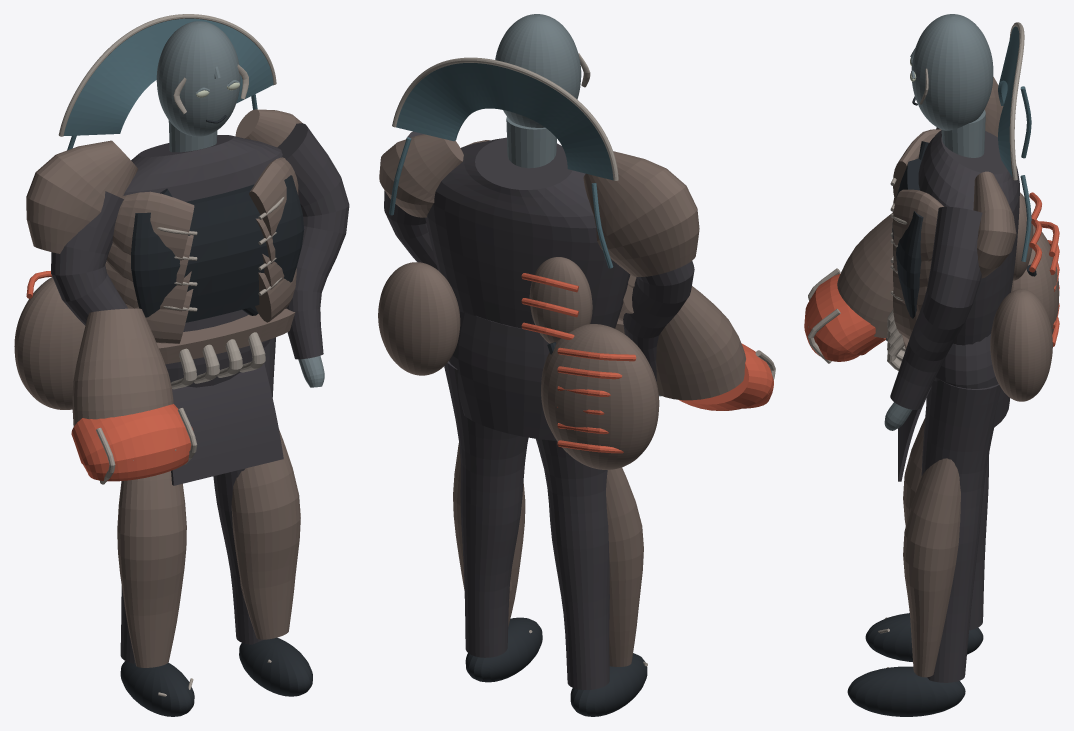
The model's file is AnchorWrecker.obj.
3 renders of one model, left to right at view 1: azimuth 30°, elevation 25°; view 2: azimuth 150°, elevation 25°; view 3: azimuth 270°, elevation 25°, orthographic. The views are drawn at different scales.
Visible parts, largest first — view 1: Wrecker_BroadTorsoHarness, Wrecker_LegBrace_L, Wrecker_LegBrace_R, Wrecker_LeftContactBrace, Avarin_Arm_R, Salvage_SplitFieldApron, Avarin_LivingCrescentMantle, Wrecker_LeftLoadShoulder, Avarin_TempleFace, Wrecker_BluntAnchorPad, Avarin_Torso, Wrecker_LeftBallastCassette (+21 smaller); view 2: Avarin_Torso, Avarin_Leg_R, Avarin_Leg_L, Wrecker_LeftBallastCassette, Avarin_LivingCrescentMantle, Wrecker_LeftLoadShoulder, Avarin_Pelvis, Wrecker_RightBallastCassette, Wrecker_LeftContactBrace, Wrecker_LegBrace_L, Avarin_TempleFace, Wrecker_RightCounterShoulder (+9 smaller); view 3: Avarin_Leg_R, Avarin_Arm_R, Wrecker_LegBrace_R, Avarin_TempleFace, Avarin_Torso, Wrecker_RightBallastCassette, Wrecker_LeftContactBrace, Avarin_Foot_R, Wrecker_BluntAnchorPad, Wrecker_RightCounterShoulder, Avarin_Pelvis, Wrecker_BroadTorsoHarness (+15 smaller).
Part boxes in pixels (box(x1,y1,x2,y2)): Wrecker_BroadTorsoHarness: box(131, 175, 304, 322); Wrecker_LegBrace_L: box(117, 471, 186, 667); Wrecker_LegBrace_R: box(231, 429, 300, 639); Wrecker_LeftContactBrace: box(72, 308, 173, 426); Avarin_Arm_R: box(277, 123, 349, 359); Salvage_SplitFieldApron: box(171, 363, 283, 485); Avarin_LivingCrescentMantle: box(63, 18, 273, 135); Wrecker_LeftLoadShoulder: box(26, 140, 137, 253); Avarin_TempleFace: box(156, 21, 240, 136); Wrecker_BluntAnchorPad: box(71, 404, 193, 481); Avarin_Torso: box(123, 135, 282, 201); Wrecker_LeftBallastCassette: box(14, 277, 85, 409); Avarin_Torso: box(425, 137, 630, 328); Avarin_Leg_R: box(444, 361, 528, 657); Avarin_Leg_L: box(536, 439, 609, 689); Wrecker_LeftBallastCassette: box(541, 324, 659, 469); Avarin_LivingCrescentMantle: box(396, 63, 613, 180); Wrecker_LeftLoadShoulder: box(583, 151, 699, 276); Avarin_Pelvis: box(449, 311, 556, 440); Wrecker_RightBallastCassette: box(378, 262, 460, 375); Wrecker_LeftContactBrace: box(656, 286, 745, 400); Wrecker_LegBrace_L: box(606, 467, 643, 666); Avarin_TempleFace: box(495, 14, 581, 127); Wrecker_RightCounterShoulder: box(379, 134, 463, 217); Avarin_Leg_R: box(921, 380, 1000, 682); Avarin_Arm_R: box(890, 206, 982, 409); Wrecker_LegBrace_R: box(903, 458, 960, 677); Avarin_TempleFace: box(911, 14, 993, 130); Avarin_Torso: box(918, 130, 1019, 345); Wrecker_RightBallastCassette: box(990, 289, 1052, 401); Wrecker_LeftContactBrace: box(837, 212, 893, 338); Avarin_Foot_R: box(847, 666, 965, 716); Wrecker_BluntAnchorPad: box(804, 273, 885, 361); Wrecker_RightCounterShoulder: box(973, 171, 1016, 278); Avarin_Pelvis: box(934, 334, 1010, 427); Wrecker_BroadTorsoHarness: box(892, 158, 923, 318).
Size of the model in its own units: 0.9125 by 1.82 by 0.6286.
